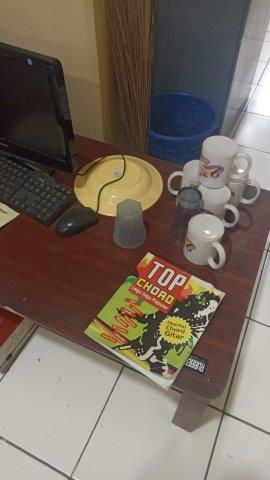kertas: (84, 251, 226, 395)
